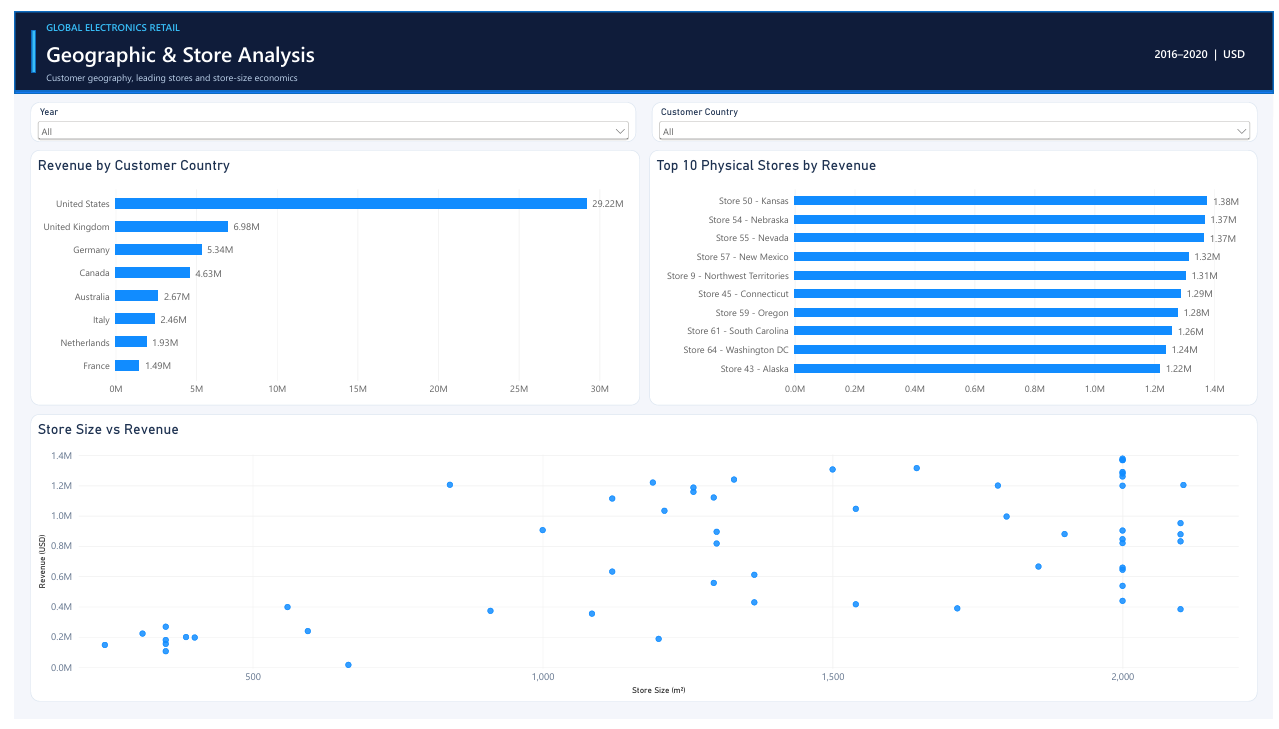

The dashboard page shown, as its layout file describes it:
{"tool":"powerbi","page":{"name":"Geographic & Store Analysis","canvas":[1920,1080],"ordinal":3},"visuals":[{"type":"shape","box":[0,0,1920,121],"z":0},{"type":"clusteredBarChart","title":"Revenue by Customer Country","fields":{"Category":["public customers.country"],"Y":["public sales.Total Revenue"]},"box":[24,211,930,390],"z":1000},{"type":"shape","box":[0,121,1920,4],"z":2000},{"type":"shape","box":[26,28,6,65],"z":3000},{"type":"clusteredBarChart","title":"Top 10 Physical Stores by Revenue","fields":{"Category":["public stores.Store Label"],"Y":["public sales.Total Revenue"]},"box":[968,211,928,390],"z":4000},{"type":"scatterChart","title":"Store Size vs Revenue","fields":{"Category":["public stores.Store Label"],"X":["Max(public stores.square_meters)"],"Y":["public sales.Total Revenue"]},"box":[24,614,1872,439],"z":5000},{"type":"slicer","fields":{"Values":["DimDate.Year"]},"box":[24,138,924,61],"z":6000},{"type":"slicer","fields":{"Values":["public customers.country"]},"box":[972,138,924,61],"z":7000},{"type":"textbox","box":[48,13,1330,27],"z":8000},{"type":"textbox","box":[48,42,1450,43],"z":9000},{"type":"textbox","box":[48,91,1330,25],"z":10000},{"type":"textbox","box":[1545,52,332,43],"z":11000},{"type":"textbox","box":[26,1057,1840,22],"z":12000}]}

Visuals, with their boxes in screenshot pixels (x1, y1, x2, y2), scaled from the page's 1920x1080 canvas onto the 1279x729 screenshot:
shape: crop(0, 0, 1278, 82)
"Revenue by Customer Country" clusteredBarChart: crop(16, 142, 636, 406)
shape: crop(0, 82, 1278, 84)
shape: crop(17, 19, 21, 63)
"Top 10 Physical Stores by Revenue" clusteredBarChart: crop(645, 142, 1263, 406)
"Store Size vs Revenue" scatterChart: crop(16, 414, 1263, 711)
slicer - DimDate.Year: crop(16, 93, 632, 134)
slicer - public customers.country: crop(647, 93, 1263, 134)
textbox: crop(32, 9, 918, 27)
textbox: crop(32, 28, 998, 57)
textbox: crop(32, 61, 918, 78)
textbox: crop(1029, 35, 1250, 64)
textbox: crop(17, 713, 1243, 728)
